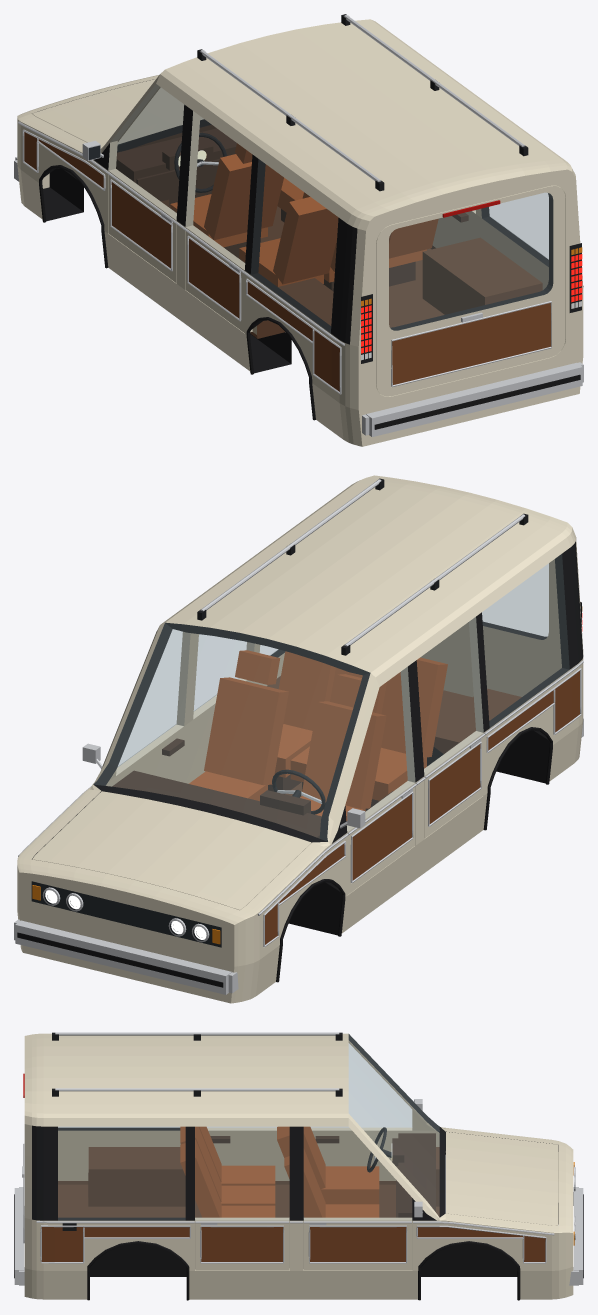
File: carrow_wagon_preview.glb
3 views of the same model, one above another, from view 1: azimuth 30°, elevation 25°; view 2: azimuth 150°, elevation 25°; view 3: azimuth 270°, elevation 25° (orthographic). The views are drawn at different scales.
Visible parts, largest first — view 1: roof_rear, roof_front, hatch, hatch_glass, tail, floor, quarter_glass_L, quarter_L, seat_rear, glass_BL, b_post_L, glass_FL (+22 smaller); view 2: screen, roof_rear, roof_front, frunk_lid, nose, seat_rear, quarter_glass_L, seat_front_R, quarter_L, glass_BL, hatch, b_post_L (+27 smaller); view 3: roof_rear, roof_front, quarter_glass_R, quarter_R, floor, frunk_lid, glass_BR, b_post_R, glass_FR, screen, fender_R, door_FR (+22 smaller).
Boxes of the visible parts, <box> form: roof_rear: <box>197,14,574,228</box>; roof_front: <box>156,19,471,153</box>; hatch: <box>376,185,565,396</box>; hatch_glass: <box>389,193,552,330</box>; tail: <box>350,165,583,446</box>; floor: <box>161,199,542,338</box>; quarter_glass_L: <box>251,159,337,332</box>; quarter_L: <box>243,154,357,444</box>; seat_rear: <box>239,197,438,291</box>; glass_BL: <box>186,111,251,269</box>; b_post_L: <box>108,104,248,369</box>; glass_FL: <box>108,84,183,219</box>; screen: <box>94,623,369,841</box>; roof_rear: <box>197,477,575,655</box>; roof_front: <box>161,552,475,686</box>; frunk_lid: <box>32,791,311,910</box>; nose: <box>17,858,253,1003</box>; seat_rear: <box>268,651,447,811</box>; quarter_glass_L: <box>482,554,569,727</box>; seat_front_R: <box>189,650,288,801</box>; quarter_L: <box>476,541,583,832</box>; glass_BL: <box>417,617,483,775</box>; hatch: <box>420,559,561,696</box>; b_post_L: <box>343,660,483,932</box>; roof_rear: <box>32,1032,342,1126</box>; roof_front: <box>195,1033,348,1126</box>; quarter_glass_R: <box>58,1127,185,1220</box>; quarter_R: <box>32,1125,194,1299</box>; floor: <box>58,1147,439,1217</box>; frunk_lid: <box>446,1132,558,1225</box>; glass_BR: <box>195,1127,289,1220</box>; b_post_R: <box>195,1126,412,1299</box>; glass_FR: <box>304,1127,411,1220</box>; screen: <box>349,1034,439,1216</box>; fender_R: <box>412,1213,558,1299</box>; door_FR: <box>303,1217,412,1270</box>.
Size of the model in its own units: 2.16 by 1.81 by 4.82.
